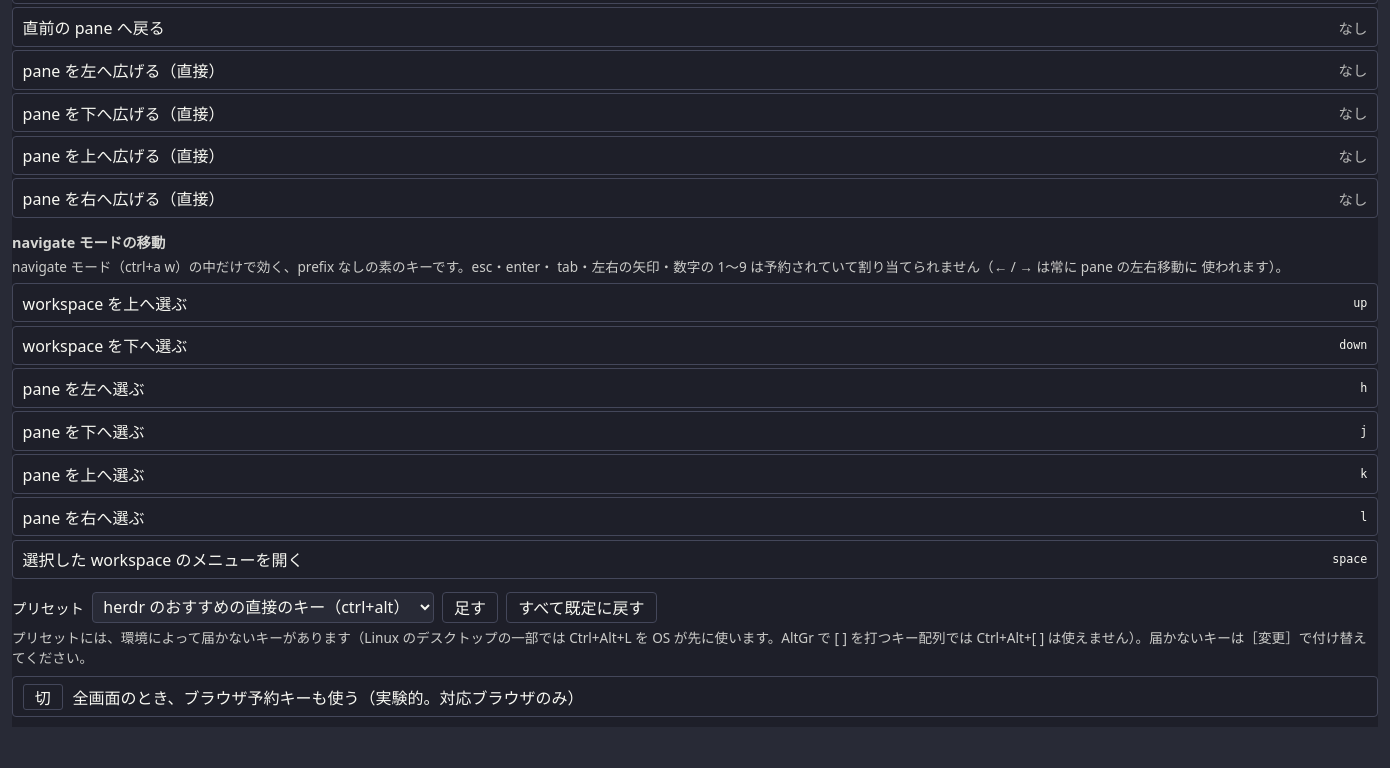
Scenario: KeySettings — すべてを既定へ戻す（インラインの確認。AC9・AC-I2） › ［戻す］：prefix も操作もすべて既定へ戻り（AC2 の状態）、keys が消える
(page scrolled)
Click the button "すべて既定に戻す". click: (581, 607)
box: [506,592,657,623]
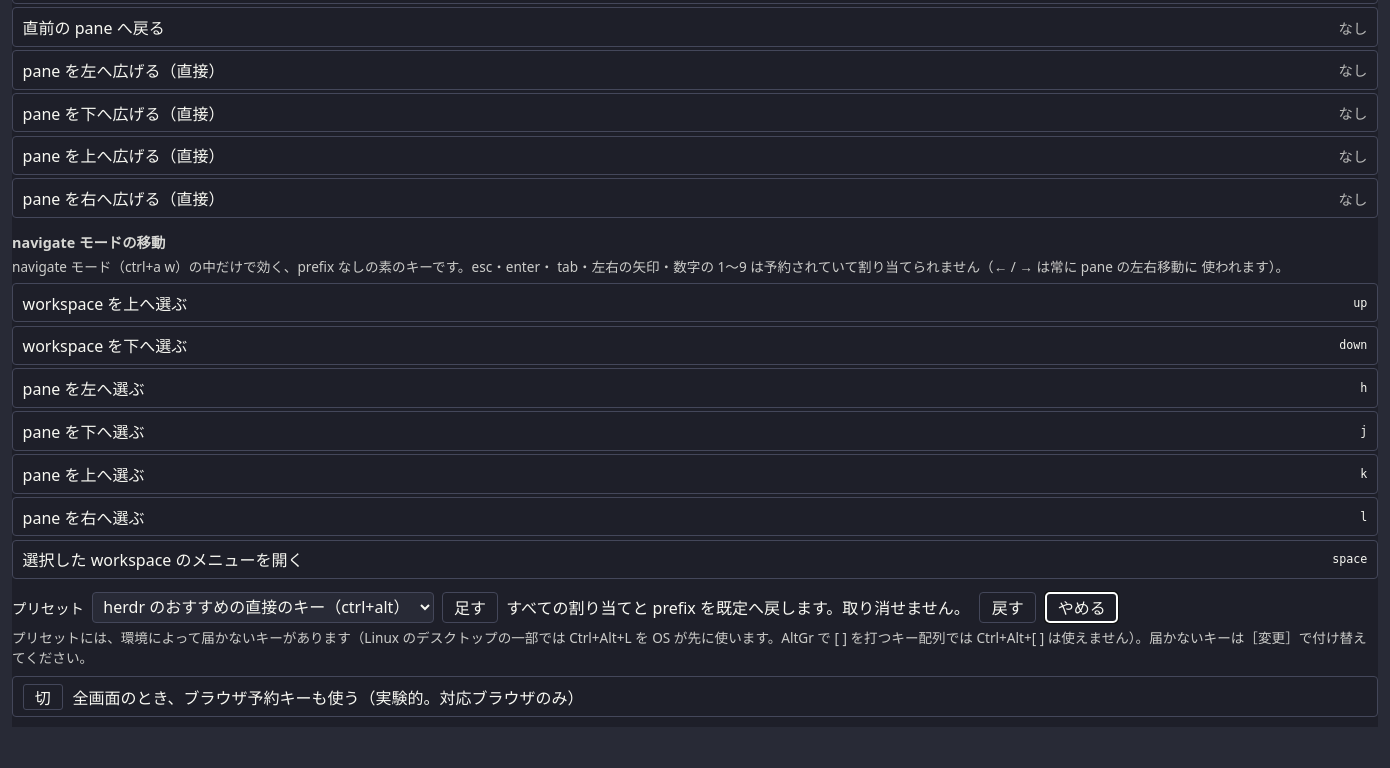
Click the button "戻す". click: (1008, 607)
box: [980,592,1036,623]
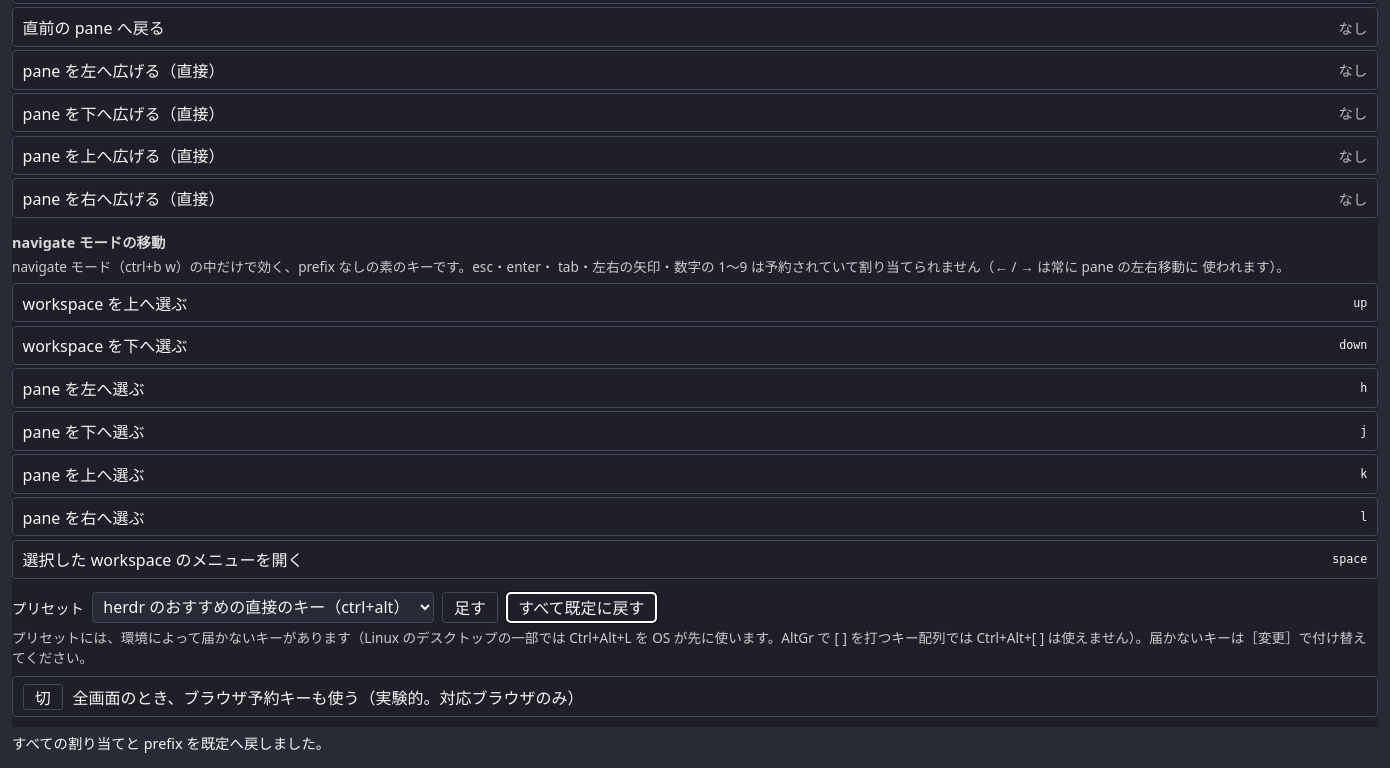
Expected: the message "すべての割り当てと prefix を既定へ戻しました。" is shown, [12,734,330,752]
